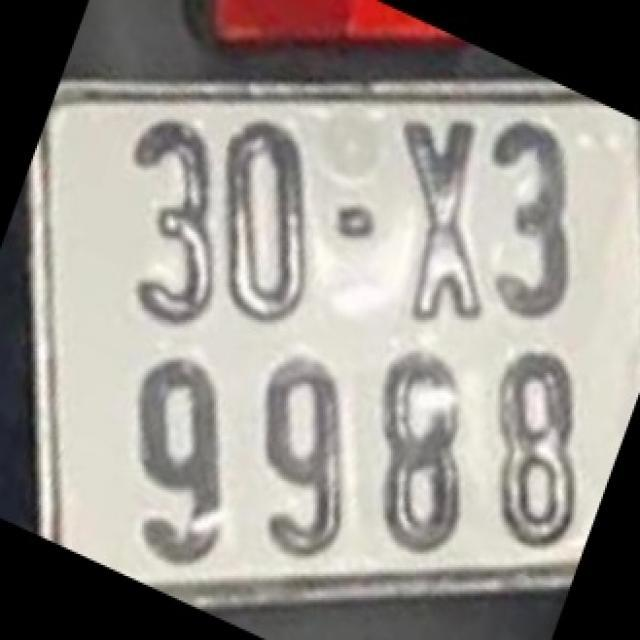0: (222, 115, 312, 326)
3: (124, 114, 218, 324), (488, 117, 576, 320)
8: (376, 342, 468, 554), (492, 342, 582, 552)
9: (126, 350, 230, 568), (255, 348, 348, 560)
X: (400, 122, 484, 314)
